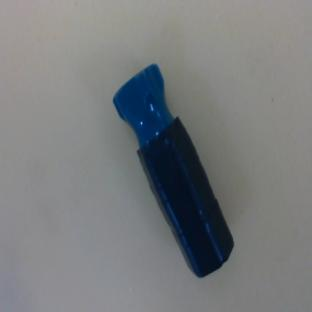part_2_bad: (105, 62, 244, 281)
